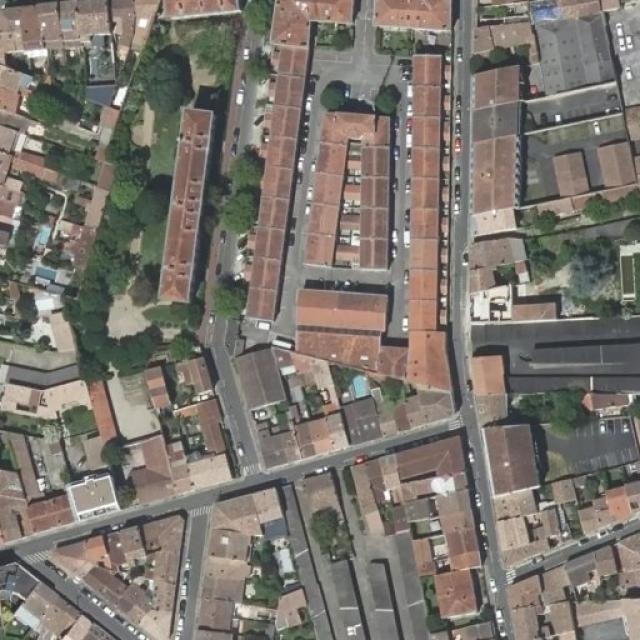immeuble: (401, 49, 459, 396), (521, 75, 639, 232), (245, 39, 305, 325), (466, 317, 640, 415), (55, 513, 185, 640), (312, 101, 390, 274), (154, 98, 214, 314), (290, 286, 409, 375), (468, 66, 522, 234), (116, 433, 233, 504), (0, 566, 110, 640), (0, 432, 74, 540), (357, 436, 466, 503), (0, 361, 106, 429), (0, 0, 136, 52), (195, 531, 255, 640), (341, 392, 457, 445), (412, 538, 484, 621), (0, 65, 31, 255), (470, 225, 530, 319), (36, 208, 109, 282), (254, 409, 344, 467), (222, 342, 288, 416), (266, 0, 354, 51), (480, 423, 537, 498), (205, 498, 291, 542), (444, 483, 479, 570), (66, 475, 123, 522), (154, 0, 248, 19)
piscine: (30, 255, 64, 287), (26, 215, 57, 249), (347, 366, 376, 402)
